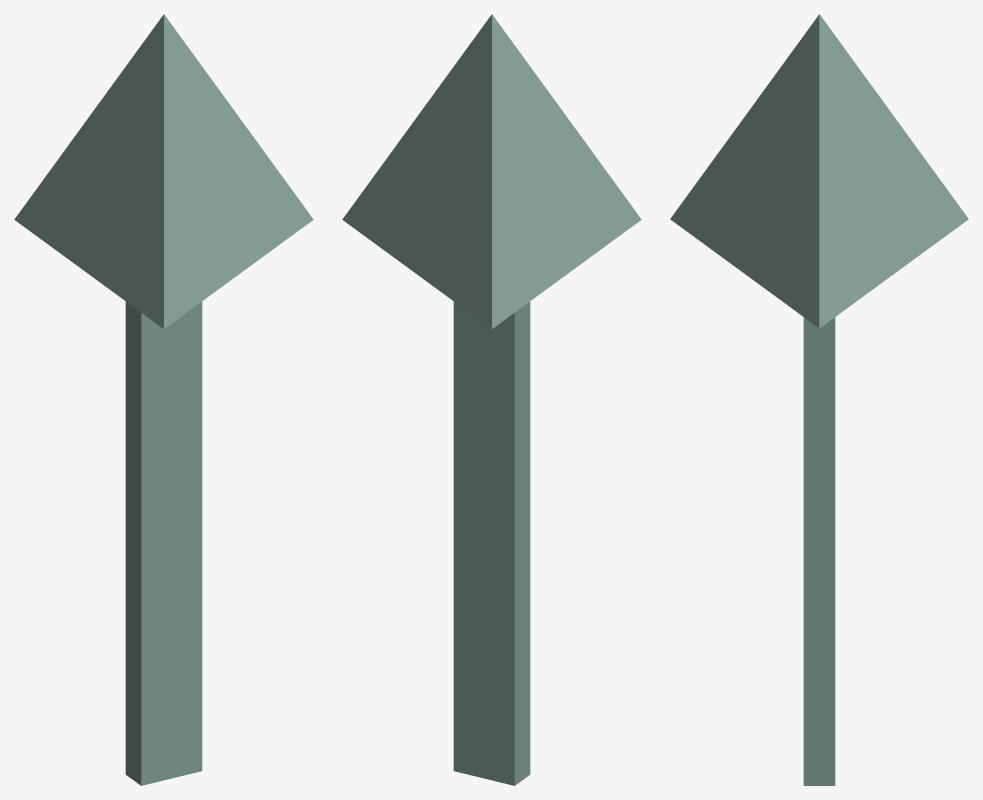
File: straight_arrow.glb
The picture shows the model from 3 angles, left to right: view 1: azimuth 30°, elevation 25°; view 2: azimuth 150°, elevation 25°; view 3: azimuth 270°, elevation 25°; orthographic projection.
Visible parts, largest first — view 1: world; view 2: world; view 3: world.
Part boxes in pixels (x1,y1,x2,y2): world: [14, 14, 313, 785]; world: [342, 14, 641, 785]; world: [670, 14, 968, 785].
Bounding box in the file's own units: 0.033 × 0.1065 × 0.0381.
